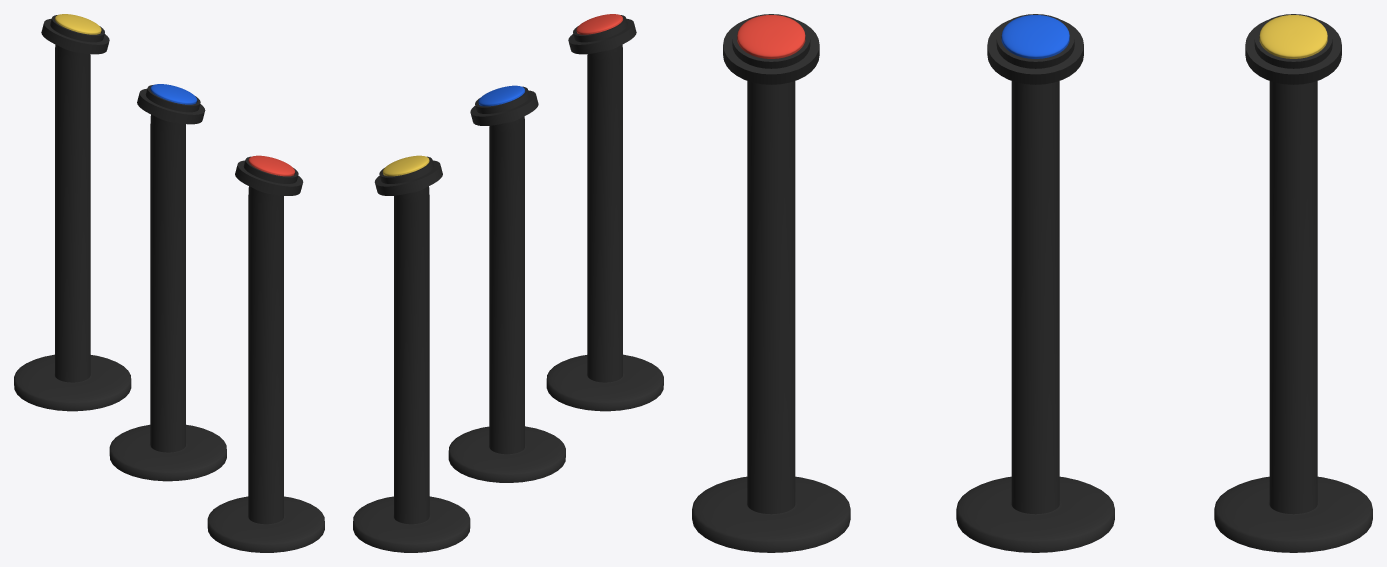
The model's file is buttons.fbx.
3 views of the same model, side by side, from view 1: azimuth 30°, elevation 25°; view 2: azimuth 150°, elevation 25°; view 3: azimuth 270°, elevation 25° (orthographic). The views are drawn at different scales.
Visible parts, largest first — view 1: Cylinder.005, Cylinder, Cylinder.006, Cylinder.004, Cylinder.007, Cylinder.001, Cylinder.002, Cylinder.003, Cylinder.008; view 2: Cylinder.006, Cylinder.005, Cylinder, Cylinder.001, Cylinder.004, Cylinder.007, Cylinder.008, Cylinder.003, Cylinder.002; view 3: Cylinder, Cylinder.005, Cylinder.006, Cylinder.001, Cylinder.004, Cylinder.007, Cylinder.003, Cylinder.002, Cylinder.008.
Part boxes in pixels (left/top/right/bottom): Cylinder.005: left=109, top=114, right=226, bottom=481; Cylinder: left=207, top=186, right=324, bottom=552; Cylinder.006: left=14, top=44, right=131, bottom=411; Cylinder.004: left=137, top=85, right=205, bottom=124; Cylinder.007: left=41, top=15, right=109, bottom=54; Cylinder.001: left=235, top=156, right=303, bottom=195; Cylinder.002: left=248, top=155, right=294, bottom=176; Cylinder.003: left=150, top=84, right=197, bottom=104; Cylinder.008: left=55, top=14, right=101, bottom=34; Cylinder.006: left=353, top=186, right=470, bottom=552; Cylinder.005: left=448, top=116, right=565, bottom=482; Cylinder: left=546, top=44, right=663, bottom=411; Cylinder.001: left=568, top=15, right=636, bottom=54; Cylinder.004: left=470, top=86, right=538, bottom=125; Cylinder.007: left=374, top=156, right=442, bottom=195; Cylinder.008: left=383, top=155, right=429, bottom=176; Cylinder.003: left=478, top=85, right=524, bottom=106; Cylinder.002: left=576, top=14, right=622, bottom=34; Cylinder: left=692, top=81, right=850, bottom=552; Cylinder.005: left=956, top=81, right=1114, bottom=552; Cylinder.006: left=1214, top=81, right=1372, bottom=552; Cylinder.001: left=723, top=14, right=819, bottom=84; Cylinder.004: left=987, top=14, right=1083, bottom=84; Cylinder.007: left=1245, top=14, right=1341, bottom=84; Cylinder.003: left=1001, top=15, right=1069, bottom=58; Cylinder.002: left=737, top=15, right=805, bottom=58; Cylinder.008: left=1259, top=15, right=1327, bottom=58.
Bounding box in the file's own units: 123 × 424 × 526.
